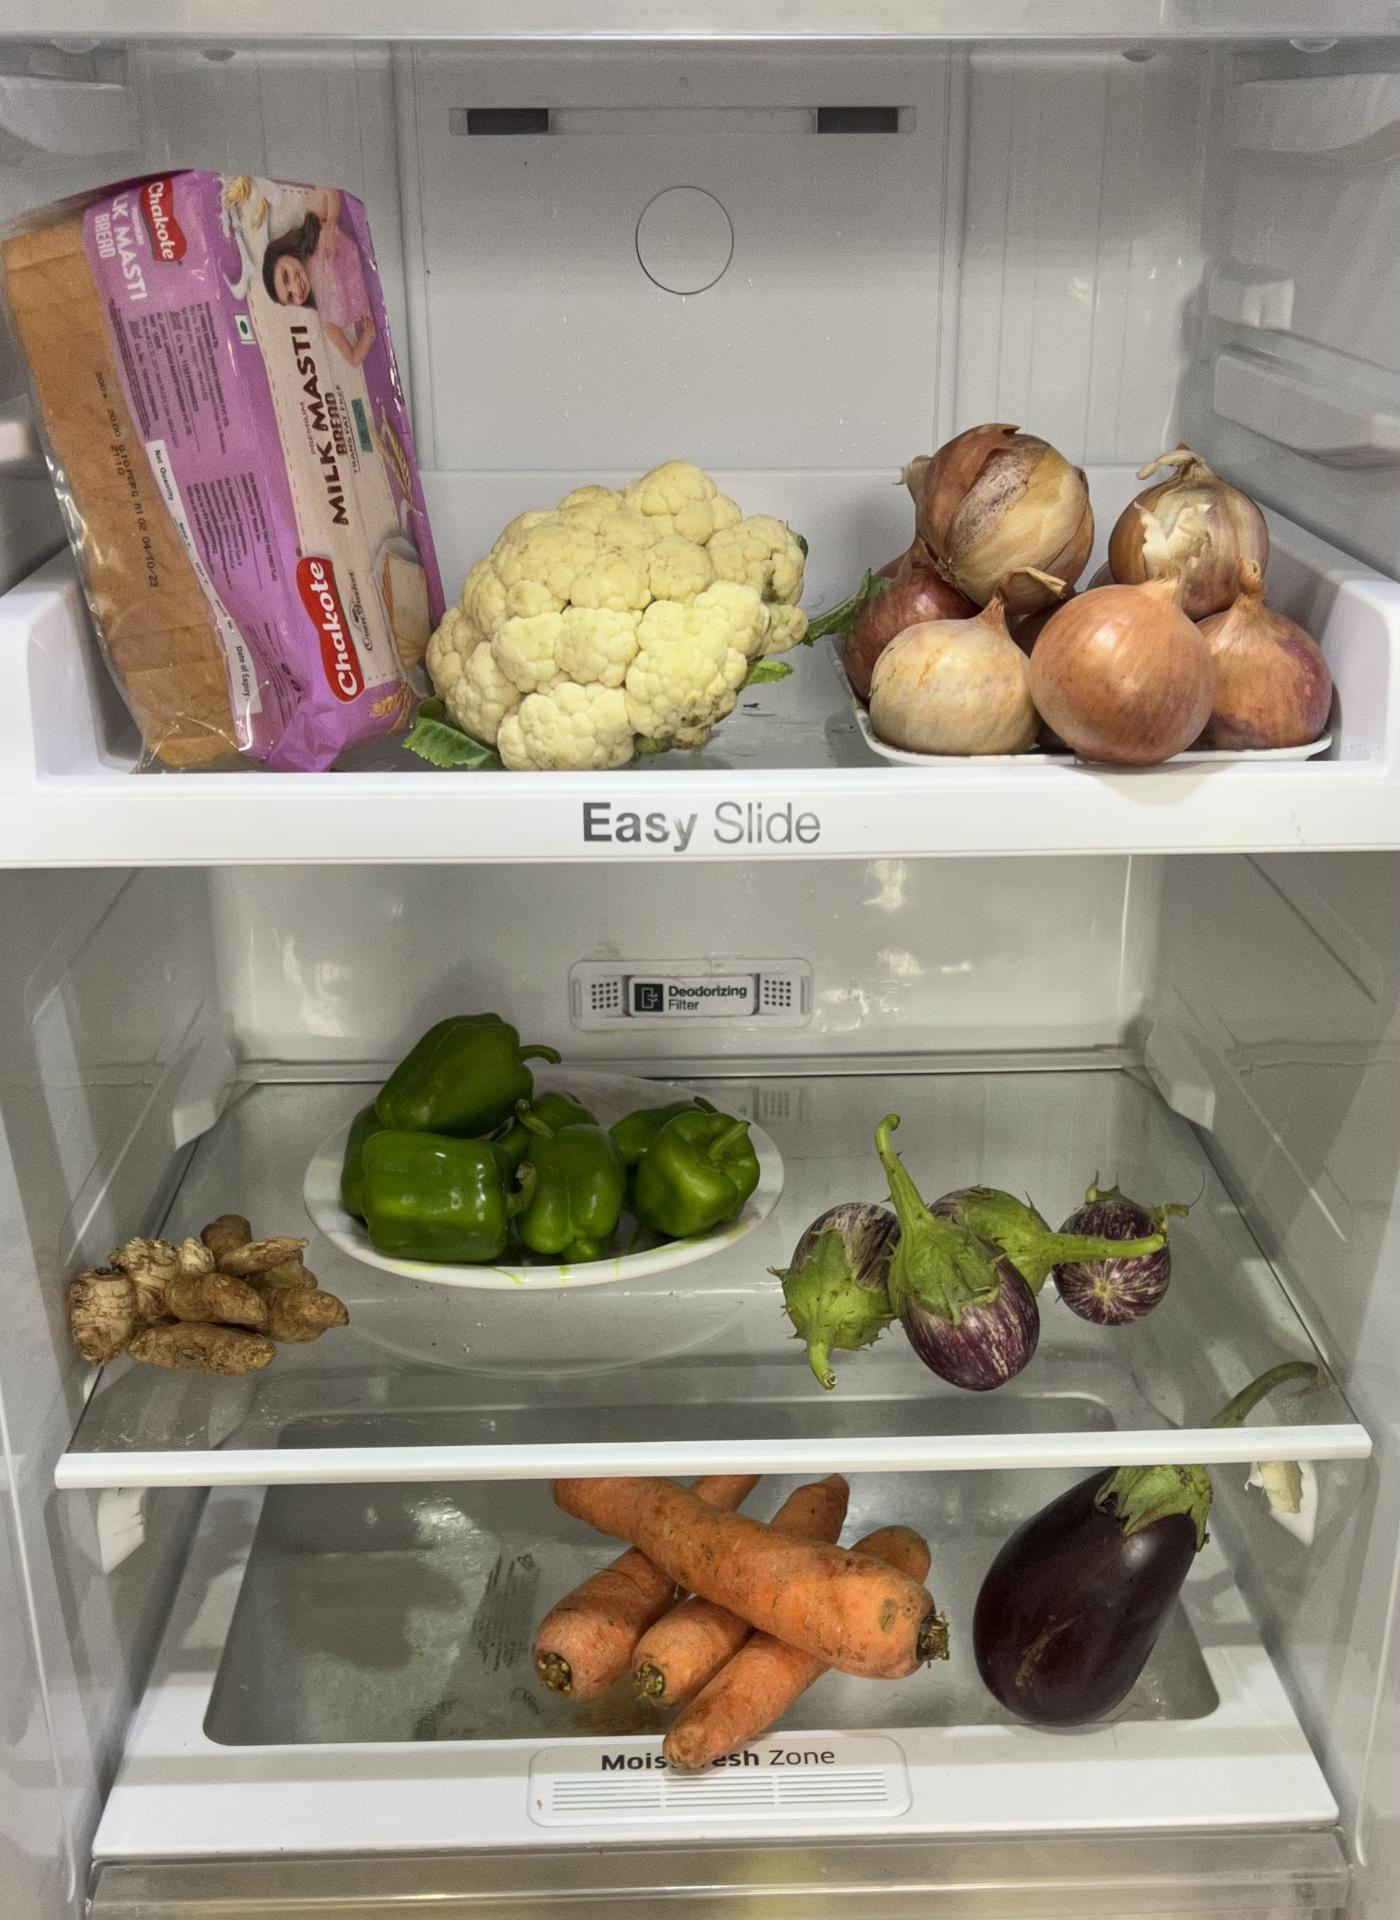bread: (1, 154, 440, 765)
capsicum: (335, 1003, 796, 1260)
carrots: (508, 1440, 957, 1769)
cauliflower: (443, 474, 810, 768)
ginger: (57, 1191, 349, 1389)
onion: (830, 423, 1343, 781)
